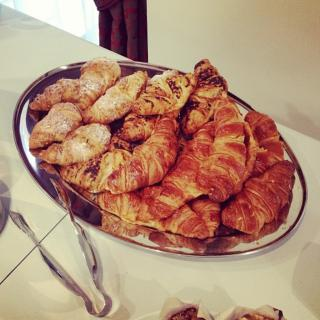Croissant: (31, 56, 283, 240), (216, 161, 292, 233)
